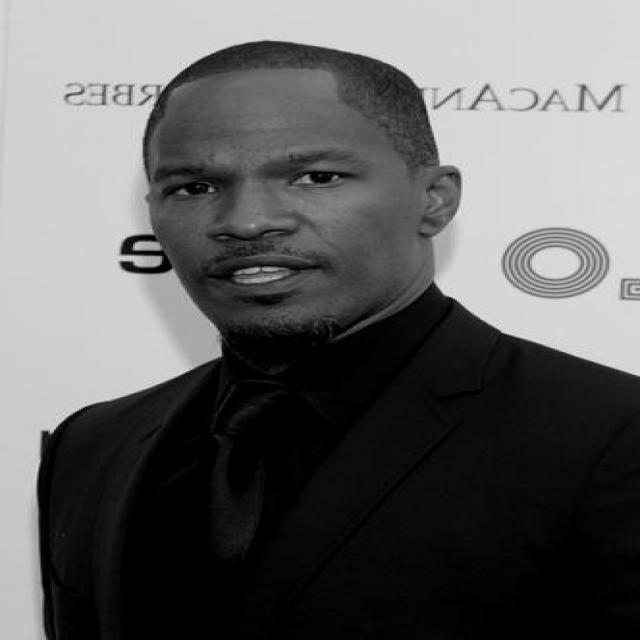real: (123, 69, 470, 359)
